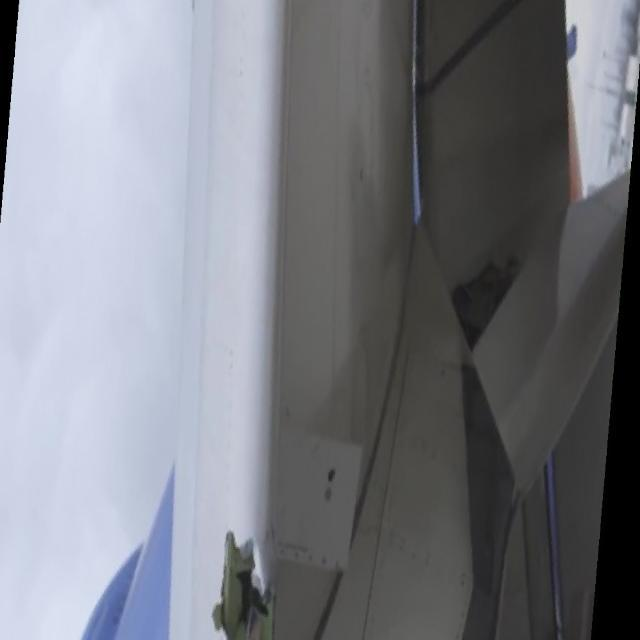crack: (211, 532, 275, 639)
